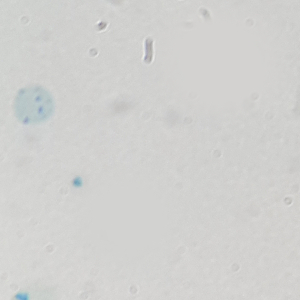aggregate reticulocyte: (10, 84, 55, 127)
